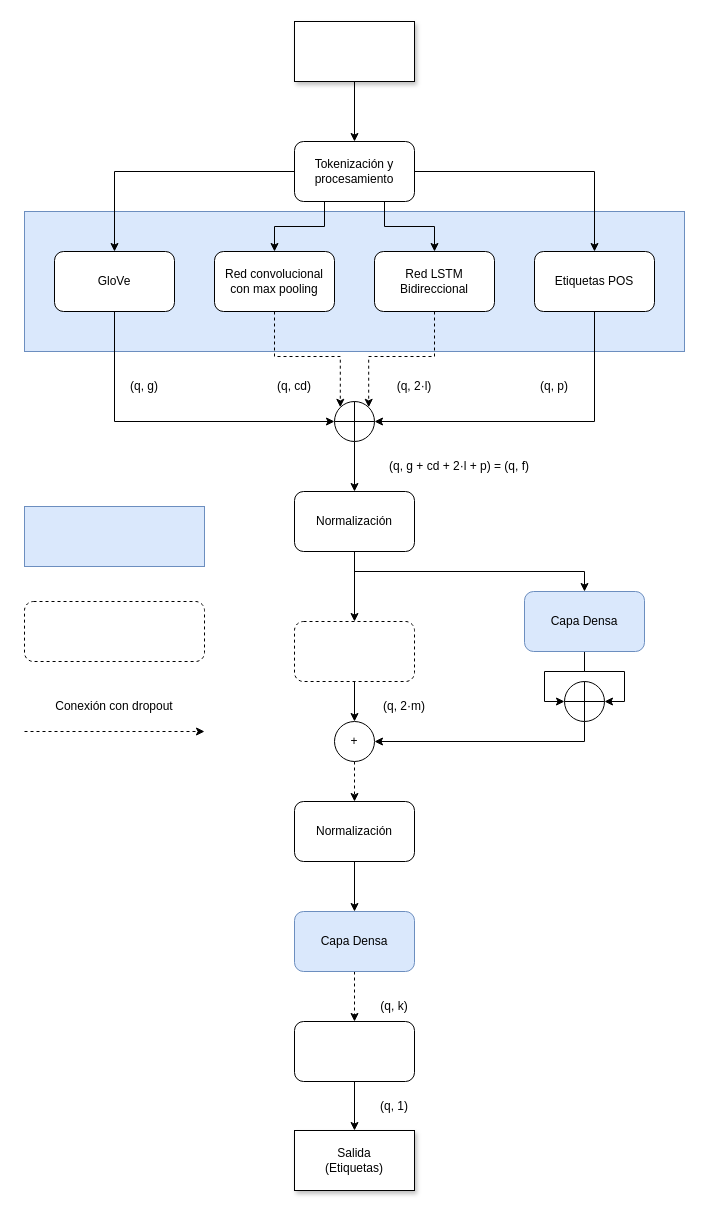
Some shapes in this 702 by 1215 pixel diagram are drawn without their labels. The centre of each missing label's shape, as x and y in pixels:
CRF: (x=354, y=1051)
Entrada (Texto): (x=355, y=52)
LSTM Bidireccional: (x=354, y=651)
Modelo aplicado a los elementos de la secuencia.: (x=114, y=536)
Modelo con regulariación y dropout interno.: (x=114, y=631)
